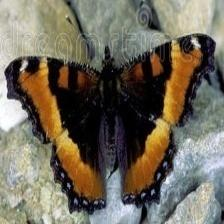butterfly: (6, 34, 216, 214)
